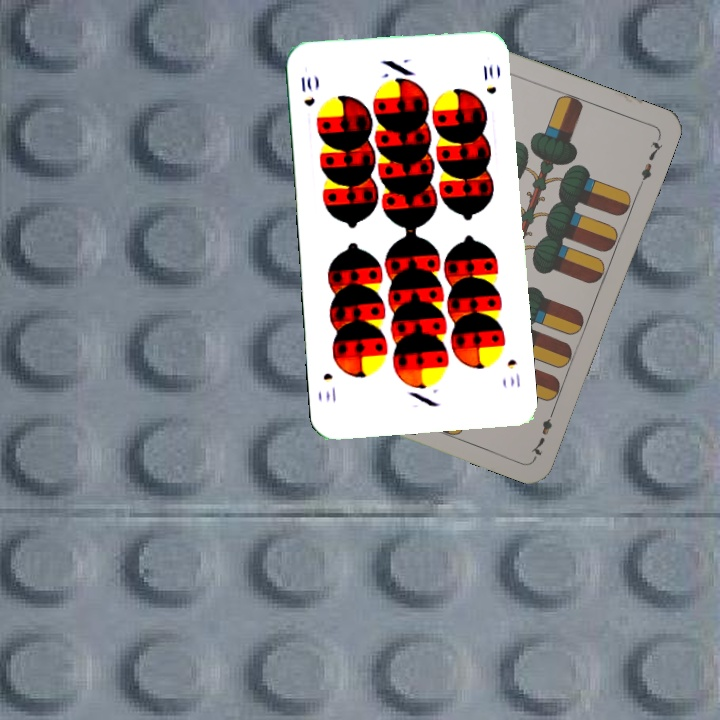E7: (527, 403, 558, 460)
S10: (297, 72, 318, 109), (503, 355, 523, 391)
